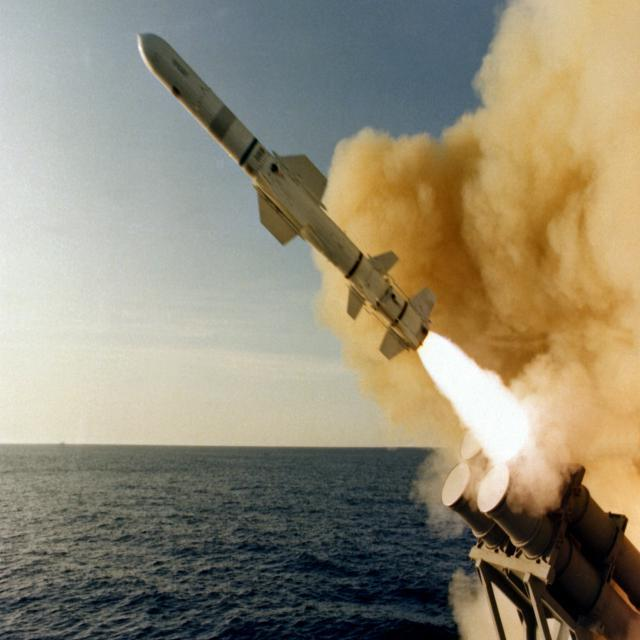missile: (132, 28, 432, 350)
